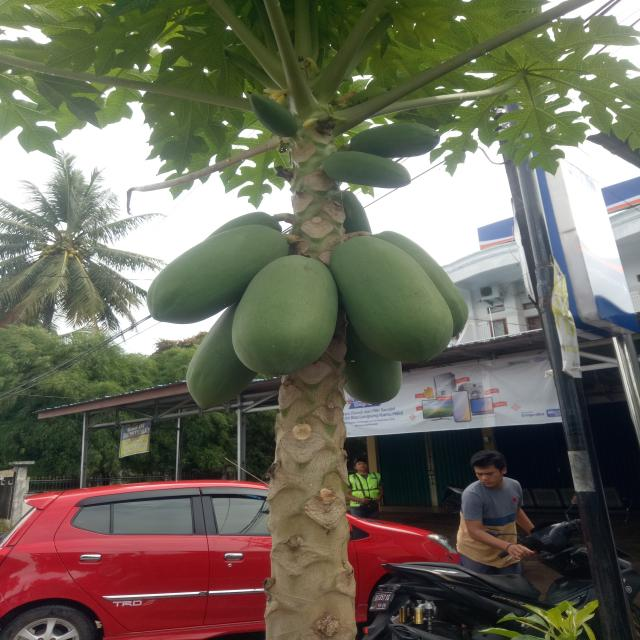Pepaya unrippen: (330, 236, 454, 372), (142, 225, 289, 316), (235, 261, 327, 368), (174, 320, 252, 408), (345, 124, 451, 156), (328, 155, 410, 189)
